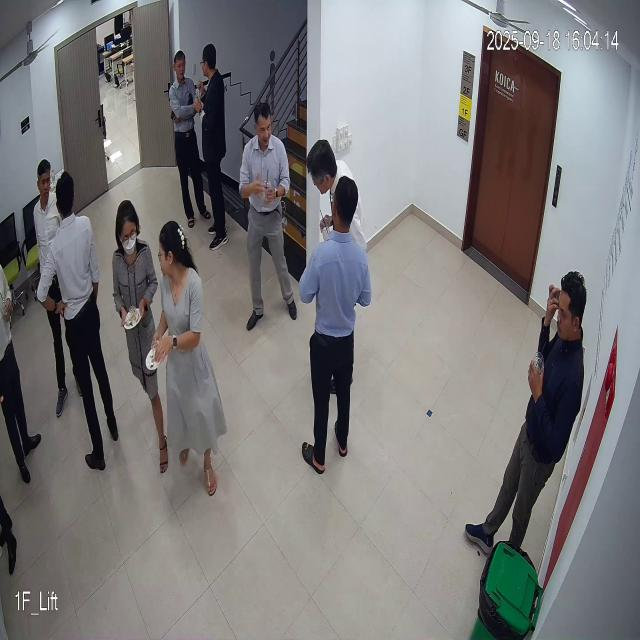face: (552, 266, 589, 342), (253, 98, 275, 152)
